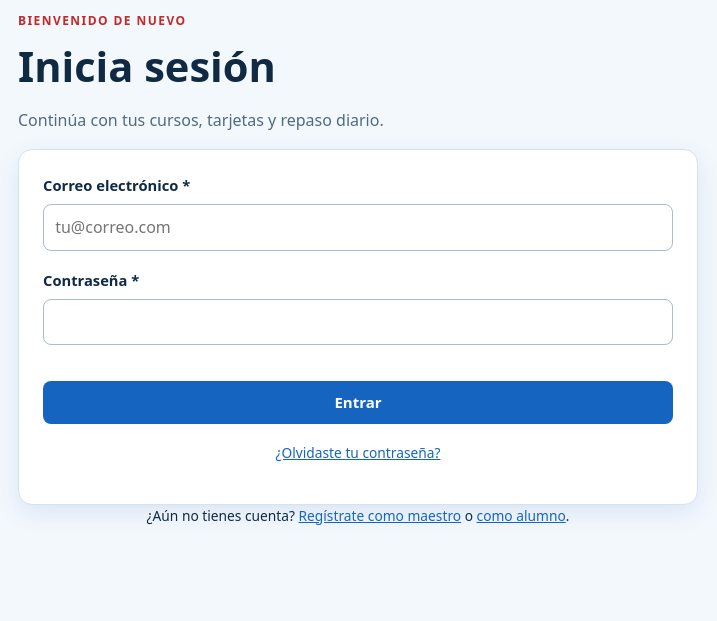
Test: Formulario de login › muestra un error si los campos están vacíos y no llama a la API
What coordinates should you click on to do the following:
click the button "Entrar"
I would click on:
 (358, 402)
Its box is [43,381,673,424].
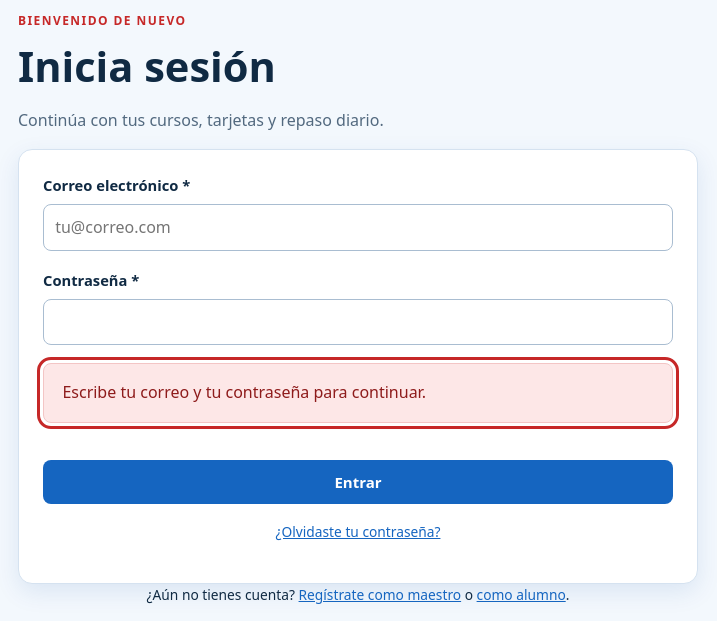
Expected: the message shows "Escribe tu correo y tu contraseña", [62,381,426,403]
